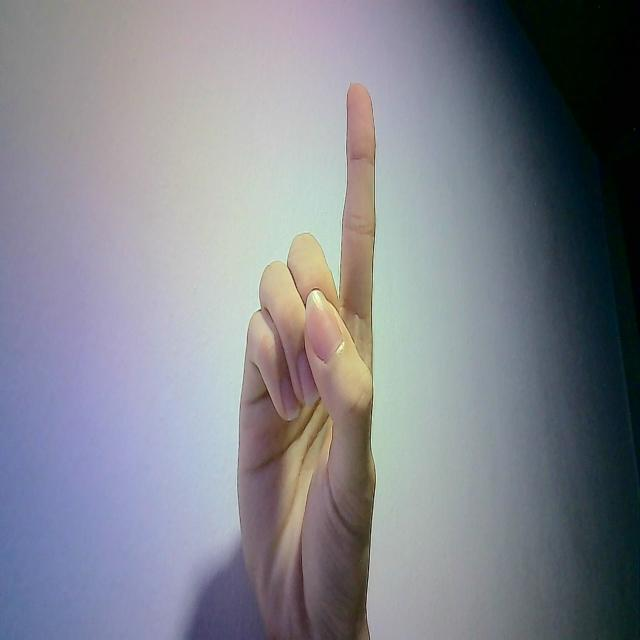D: (227, 69, 392, 640)
